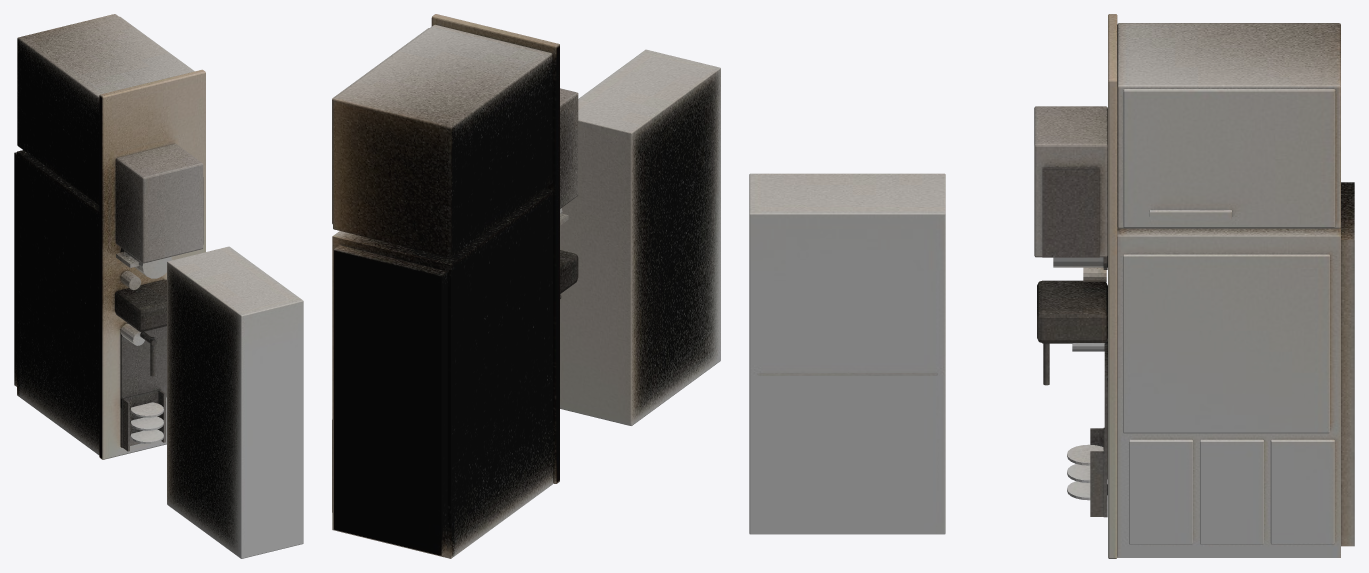
3 renders of one model, left to right at view 1: azimuth 30°, elevation 25°; view 2: azimuth 150°, elevation 25°; view 3: azimuth 270°, elevation 25°, orthographic. The views are drawn at different scales.
Visible parts, largest first — view 1: D1_final.001; view 2: D1_final.001; view 3: D1_final.001.
Part boxes in pixels (x1,y1,x2,y2): D1_final.001: (14, 14, 303, 558); D1_final.001: (332, 14, 720, 558); D1_final.001: (749, 14, 1354, 558).
Size of the model in its own units: 0.6 by 1.94 by 2.22.
1 material, 1 textured.
